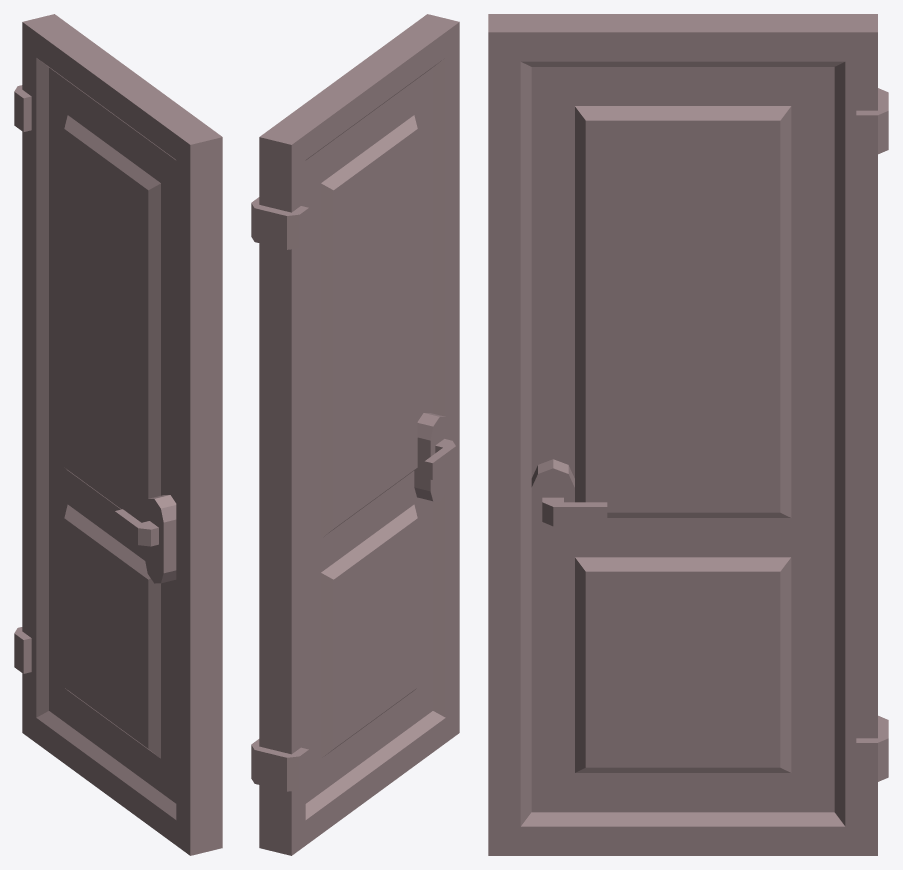
Rendered from door-rotate-square-c.obj.
The picture shows the model from 3 angles, left to right: view 1: azimuth 30°, elevation 25°; view 2: azimuth 150°, elevation 25°; view 3: azimuth 270°, elevation 25°; orthographic projection. The views are drawn at different scales.
Bounding box in the file's own units: 0.25 × 2.1 × 0.925.
